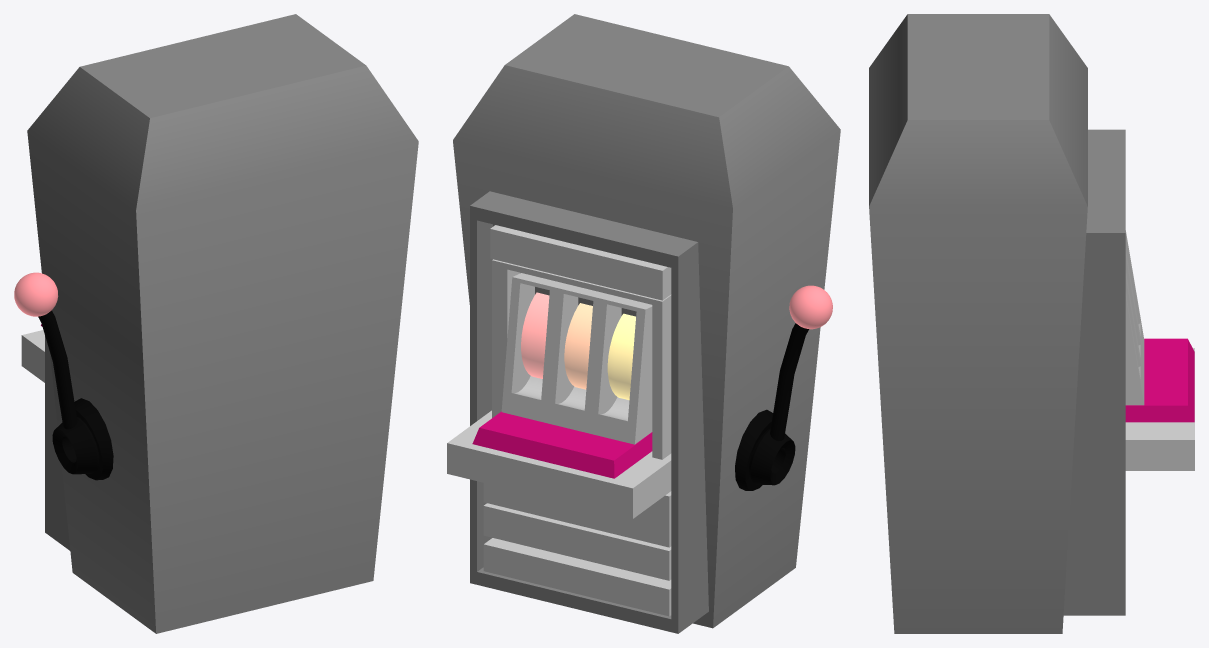
Rendered from pachinko-big.glb.
3 views of the same model, side by side, from view 1: azimuth 30°, elevation 25°; view 2: azimuth 150°, elevation 25°; view 3: azimuth 270°, elevation 25° (orthographic).
Parts seen in each view (by area): view 1: Cube.001, Boolean.004, Boolean.1, Tube.2, Sphere, Boolean, Cube.3; view 2: Cube.001, Boolean.004, Boolean.003, Cube.3, Cube.5, Boolean.002, Cube.1, Cube.2, Cube.006, Cube.4, 돌2, 돌3 (+5 smaller); view 3: Cube.001, Boolean.004, Cube.006, Cube.3, Boolean.003.
Boxes of the visible parts, left/top/right/bottom form: Cube.001: left=27, top=14, right=418, bottom=633; Boolean.004: left=45, top=336, right=70, bottom=550; Boolean.1: left=52, top=417, right=97, bottom=474; Tube.2: left=38, top=310, right=77, bottom=429; Sphere: left=14, top=272, right=58, bottom=316; Boolean: left=74, top=398, right=113, bottom=480; Cube.3: left=21, top=330, right=44, bottom=382; Cube.001: left=453, top=14, right=840, bottom=628; Boolean.004: left=470, top=191, right=708, bottom=633; Boolean.003: left=501, top=273, right=652, bottom=444; Cube.3: left=447, top=410, right=671, bottom=518; Cube.5: left=483, top=538, right=671, bottom=616; Boolean.002: left=492, top=259, right=671, bottom=459; Cube.1: left=490, top=225, right=671, bottom=300; Cube.2: left=483, top=503, right=671, bottom=580; Cube.006: left=472, top=411, right=652, bottom=478; Cube.4: left=483, top=483, right=671, bottom=547; 돌2: left=564, top=303, right=592, bottom=389; 돌3: left=607, top=313, right=635, bottom=400; Cube.001: left=869, top=14, right=1087, bottom=633; Boolean.004: left=1063, top=129, right=1125, bottom=615; Cube.006: left=1125, top=338, right=1194, bottom=422; Cube.3: left=1125, top=348, right=1194, bottom=470; Boolean.003: left=1125, top=230, right=1144, bottom=405.
Bounding box in the file's own units: 3.76 × 5.44 × 3.13.
